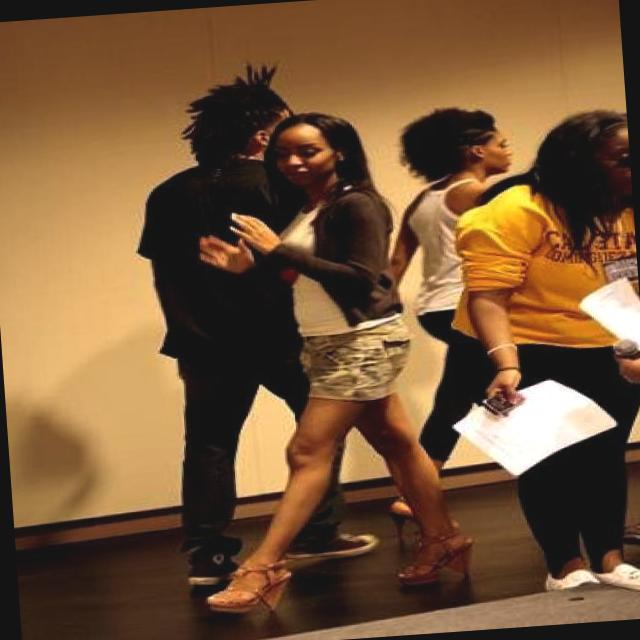no_vest: (447, 182, 640, 361), (128, 154, 276, 370), (269, 188, 404, 340), (394, 169, 452, 354)
